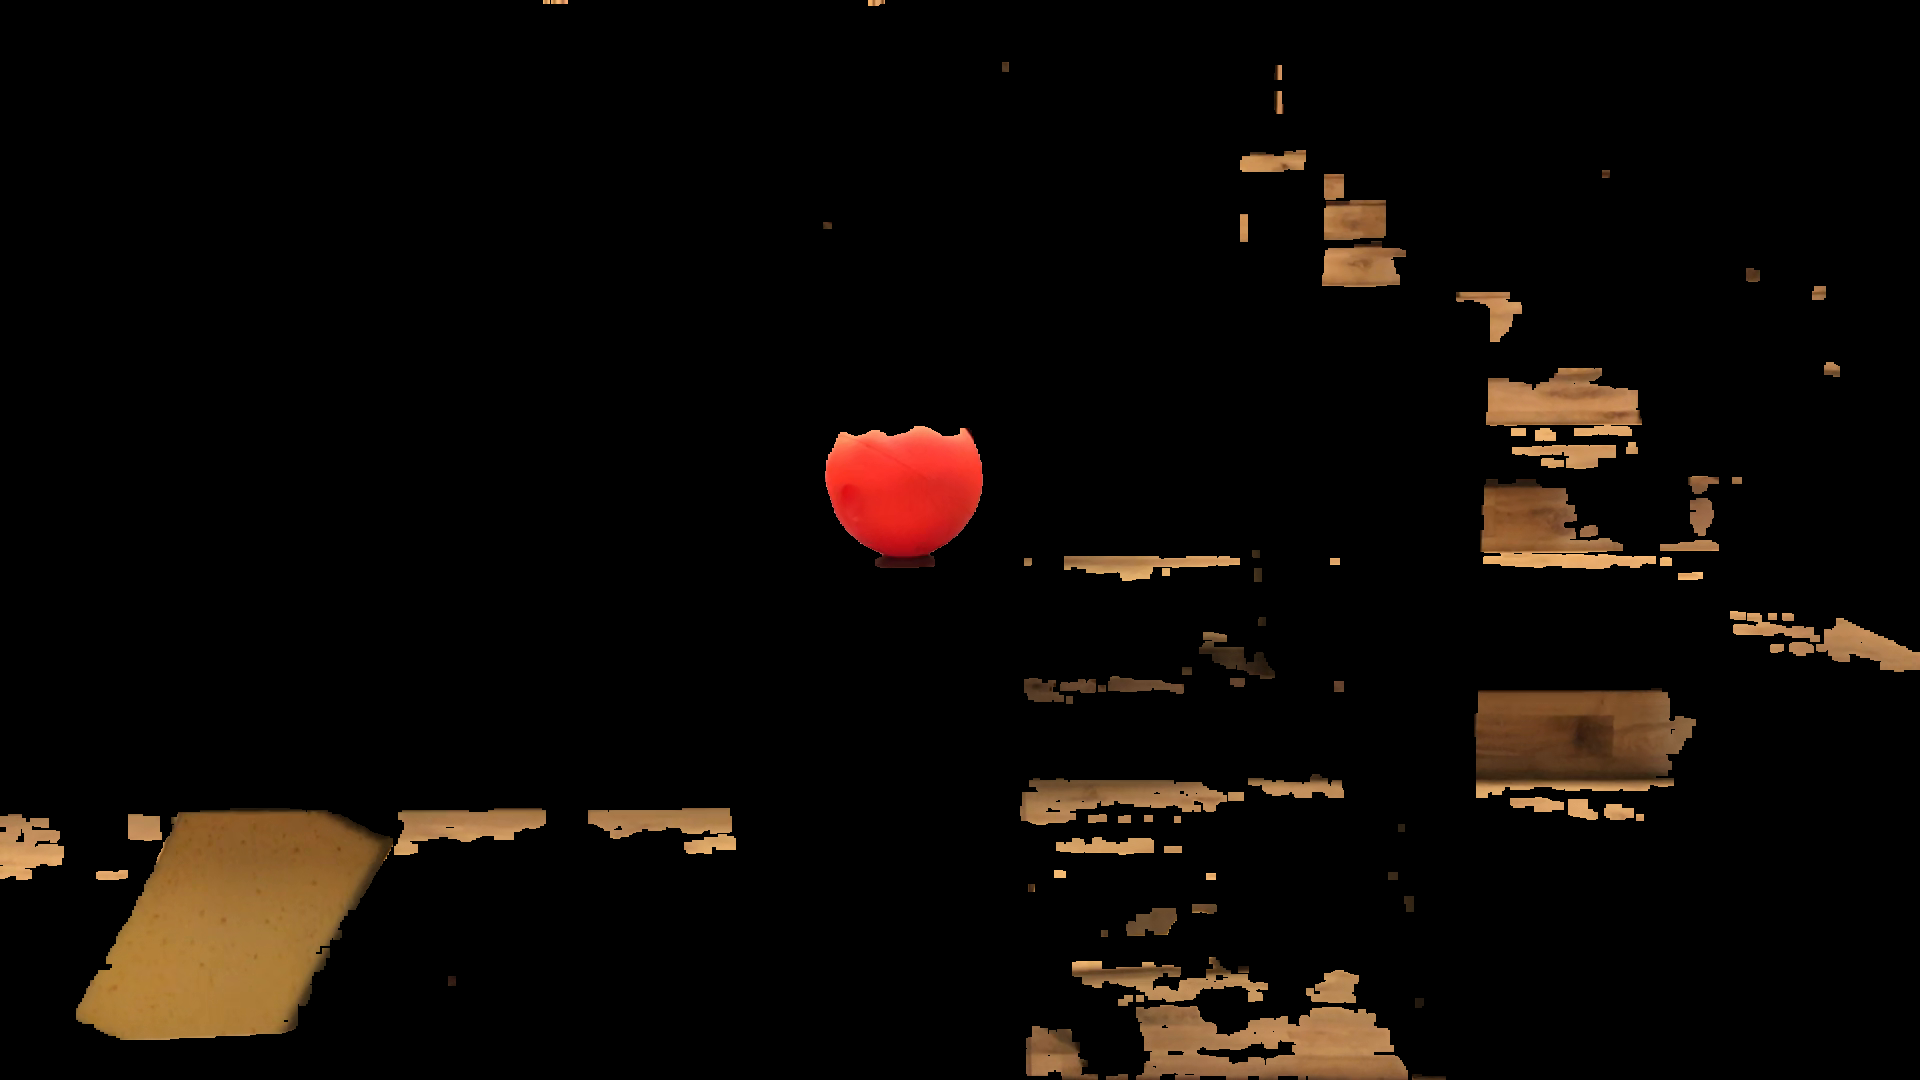Ball: (823, 400, 988, 546)
